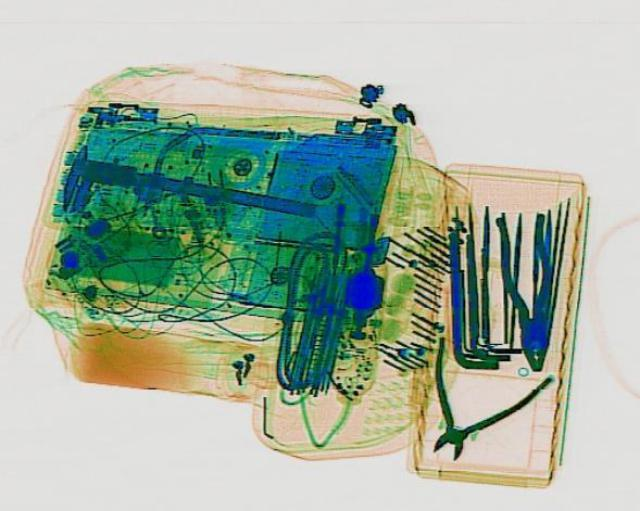Pliers: (385, 334, 557, 471), (492, 212, 564, 371)
